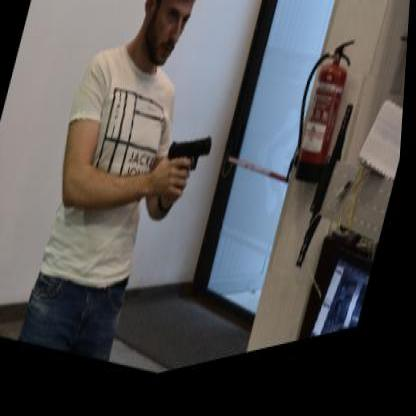pistol: (160, 127, 218, 217)
